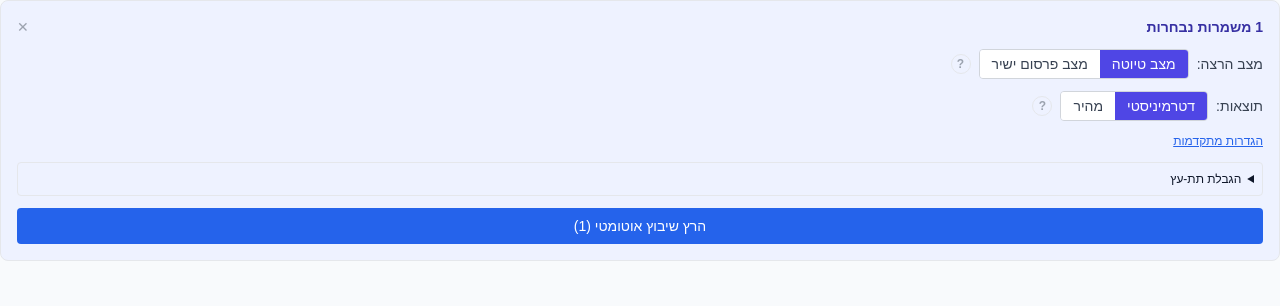
it: shows error message on submit failure
Step 1. Click the button "הרץ שיבוץ אוטומטי (1)" → (640, 226), box [17,208,1263,244]
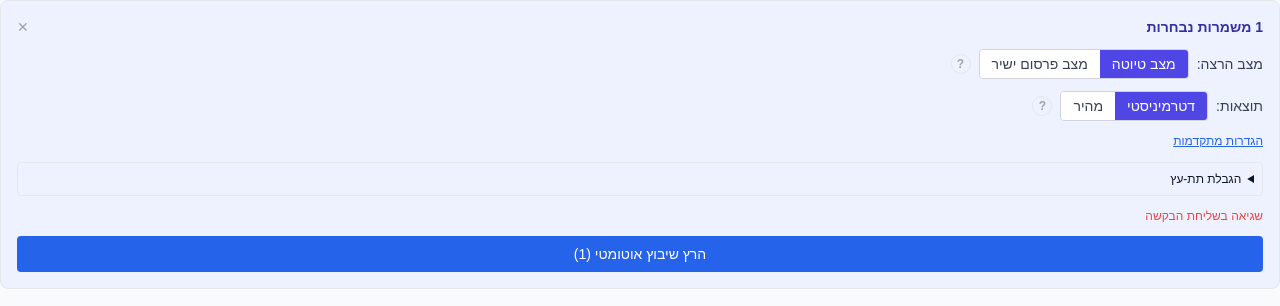
Result: the text "שגיאה בשליחת הבקשה" is shown at [1145,209,1263,223]
